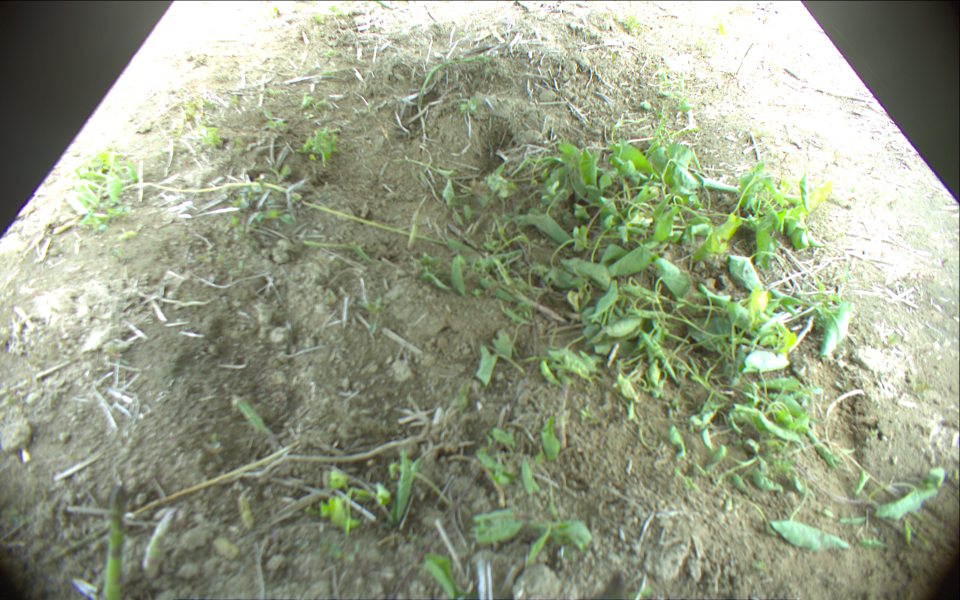aspa: (418, 50, 509, 139), (110, 177, 302, 196), (100, 484, 126, 600), (554, 377, 572, 450), (407, 196, 427, 250)
